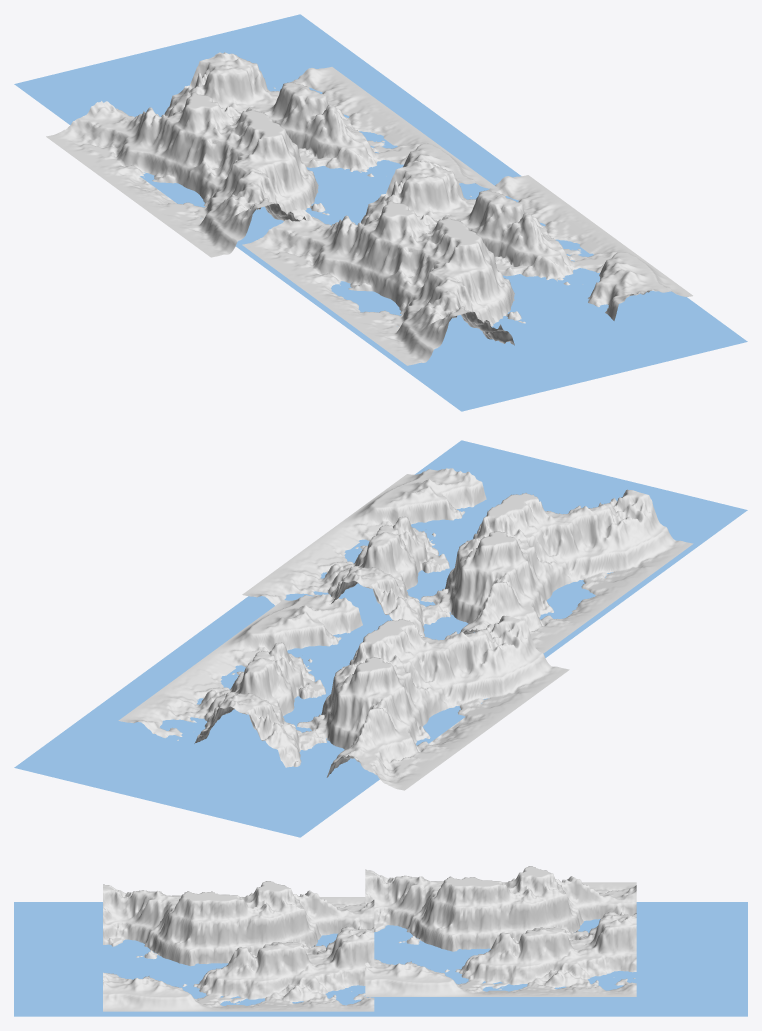
The model's file is Alien Lake.fbx.
3 views of the same model, one above another, from view 1: azimuth 30°, elevation 25°; view 2: azimuth 150°, elevation 25°; view 3: azimuth 270°, elevation 25° (orthographic). The views are drawn at different scales.
Visible parts, largest first — view 1: Landscape.000, Plane; view 2: Landscape.000, Plane; view 3: Landscape.000, Plane.
Part boxes in pixels (bbox=[...]): Landscape.000: bbox=[46, 52, 692, 365]; Plane: bbox=[14, 14, 747, 411]; Landscape.000: bbox=[118, 468, 693, 790]; Plane: bbox=[14, 440, 747, 837]; Landscape.000: bbox=[103, 866, 636, 1011]; Plane: bbox=[14, 902, 747, 1016].
Size of the model in its own units: 225 by 49.15 by 541.
